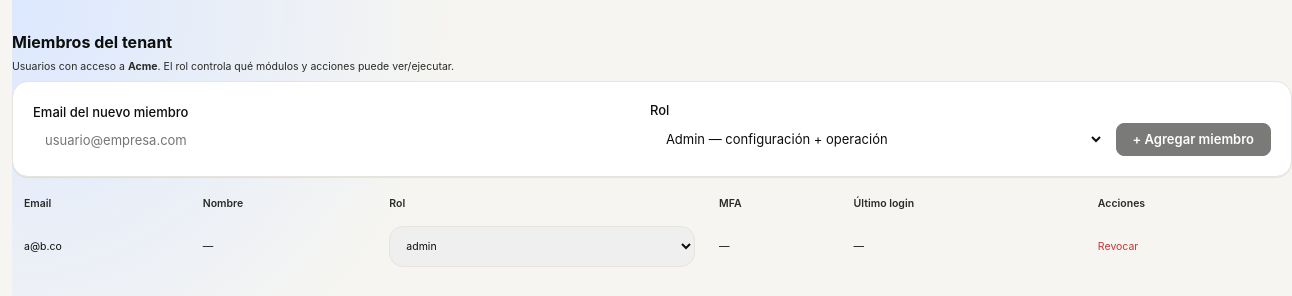
<TenantMembersPanel/> › revoca miembro cuando se confirma el window.confirm
Expected: the table with test id "members-table" is shown, [12, 189, 1291, 275]
Click the button with test id "member-remove-a@b.co".
click(1118, 246)  # box [1098, 240, 1138, 253]
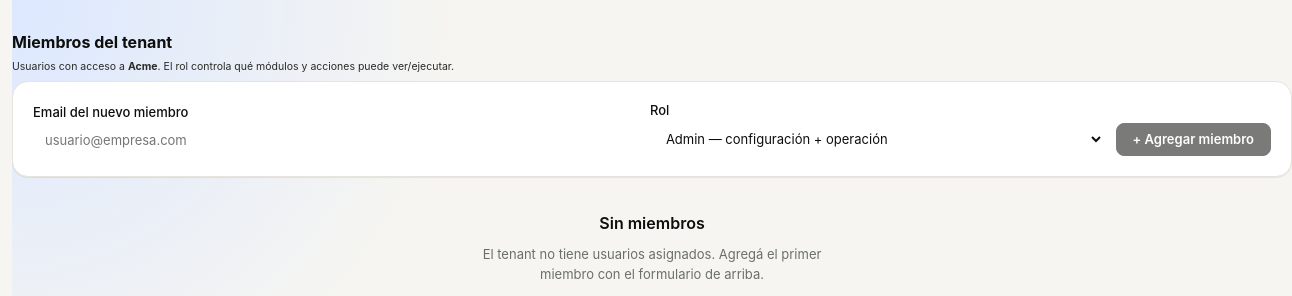
Now the heading "Sin miembros" is shown, box [599, 213, 705, 233]
